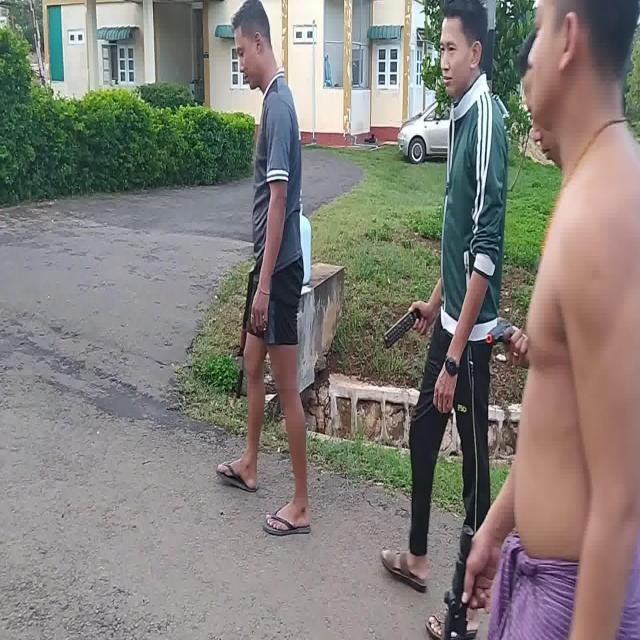gun: (238, 268, 256, 398), (487, 322, 515, 346)
